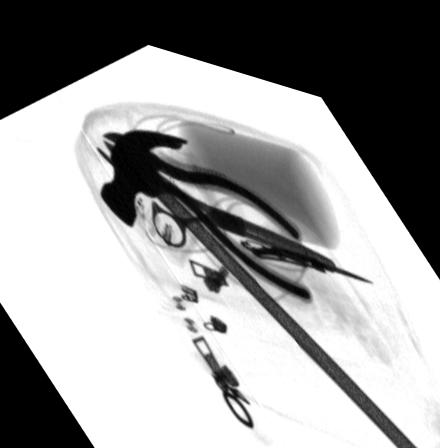Hammer: (98, 119, 423, 444)
Knife: (237, 225, 374, 261)
Pliers: (100, 126, 312, 287)
Scissors: (95, 139, 340, 254)
